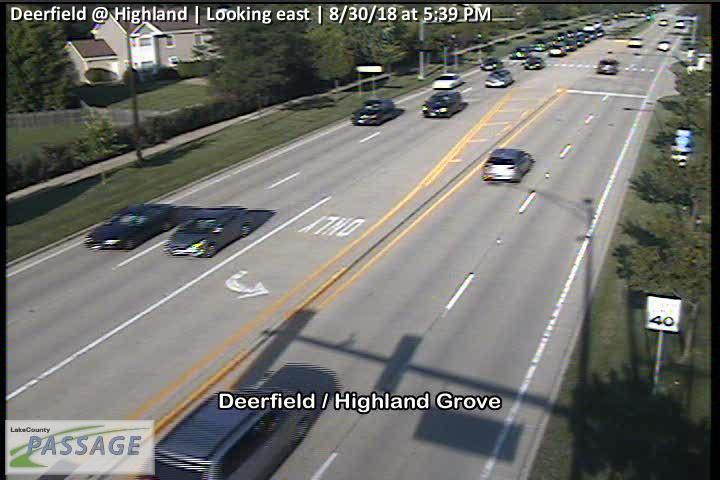Sedan: (129, 386, 316, 480), (165, 206, 256, 259), (84, 202, 178, 250), (481, 148, 534, 182), (351, 99, 396, 126), (423, 91, 462, 117), (484, 69, 513, 87), (431, 73, 463, 89), (480, 58, 503, 70), (598, 59, 617, 73), (524, 57, 543, 69), (512, 46, 528, 58), (549, 46, 566, 56), (533, 41, 548, 51), (628, 35, 642, 45), (657, 40, 670, 50), (565, 41, 577, 50), (675, 19, 684, 26), (659, 18, 668, 25)
